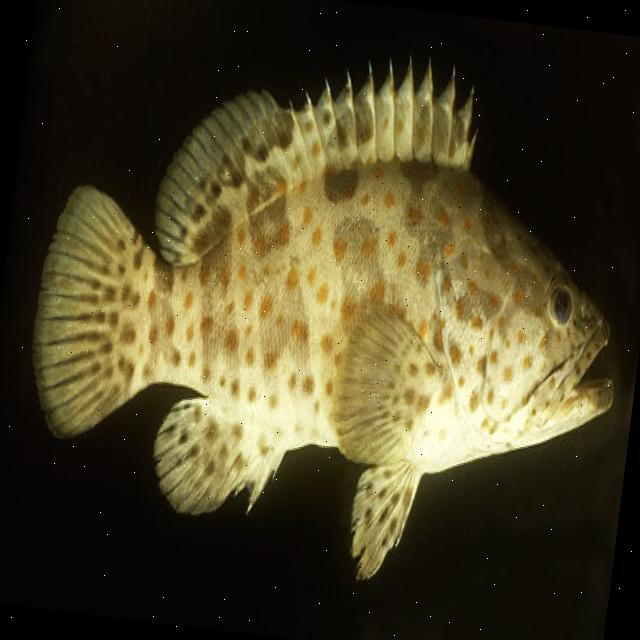ikan: (6, 8, 640, 610)
